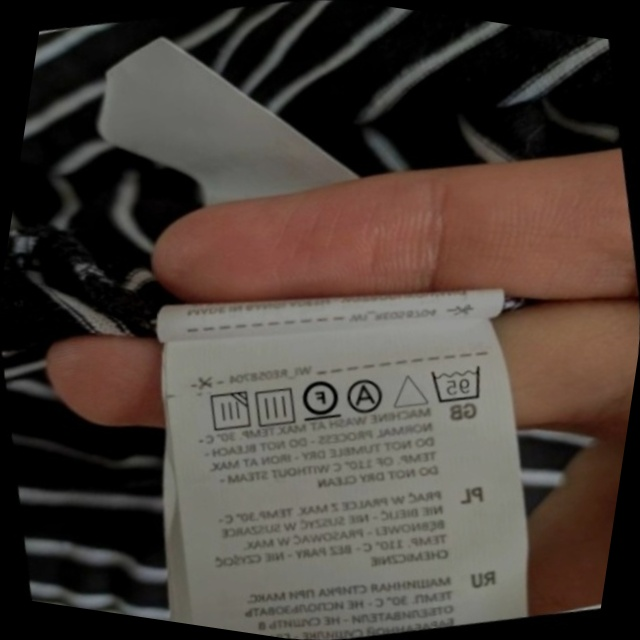95C: (421, 353, 492, 414)
bleach: (384, 362, 435, 417)
drip_dry: (245, 376, 305, 436)
drip_dry_in_shade: (197, 381, 259, 442)
dry_clean: (339, 370, 392, 421)
dry_clean_petrol_only: (292, 368, 348, 429)
